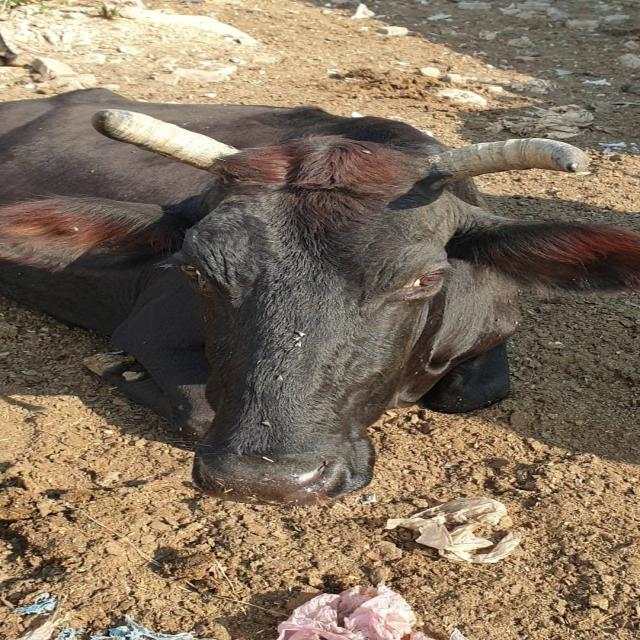cowFace: (179, 121, 468, 507)
